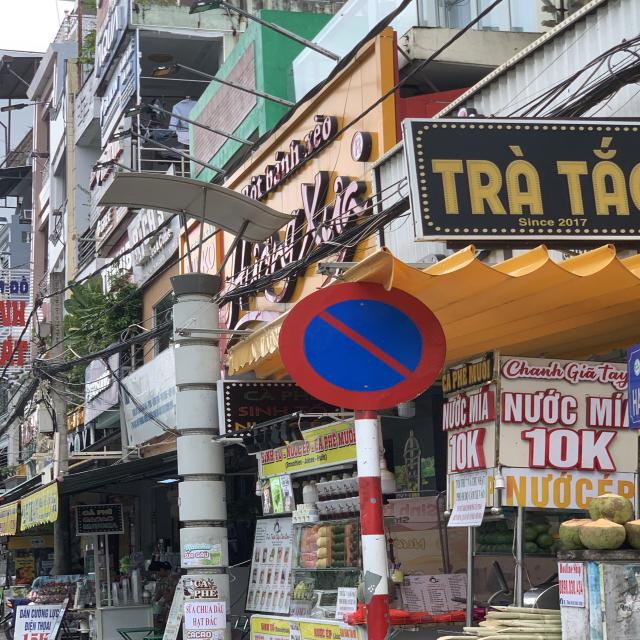Cam_Dau_Xe: (284, 280, 452, 408)
